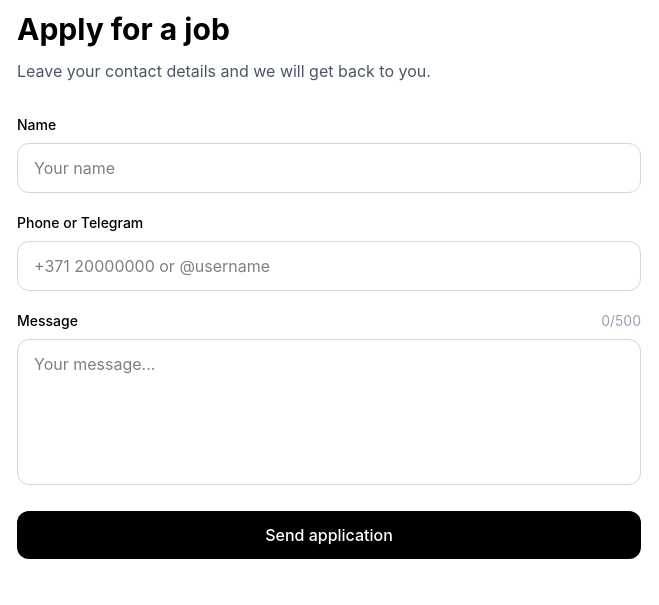
Test: ApplicationForm › shows validation error for a name shorter than 2 characters
Type "A" into the field labelled "Name" at coordinates (329, 168), box [17, 143, 641, 193]
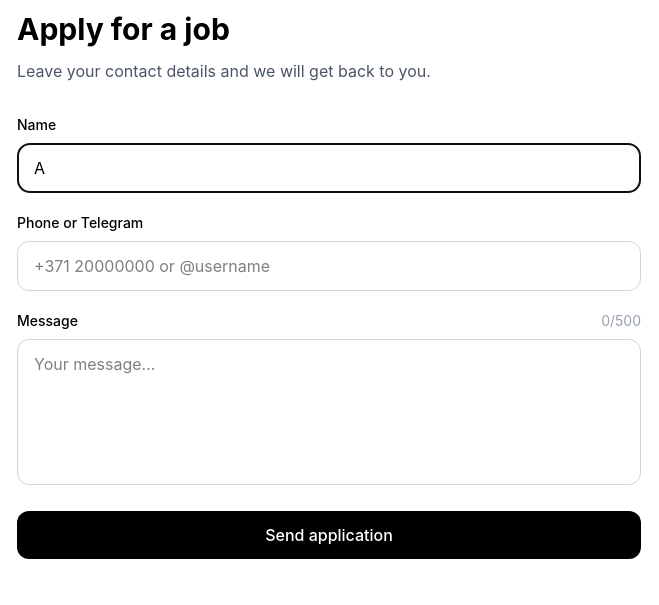
Type "+371 20000000" into the field labelled "Phone or Telegram" at coordinates (329, 266), box [17, 241, 641, 291]
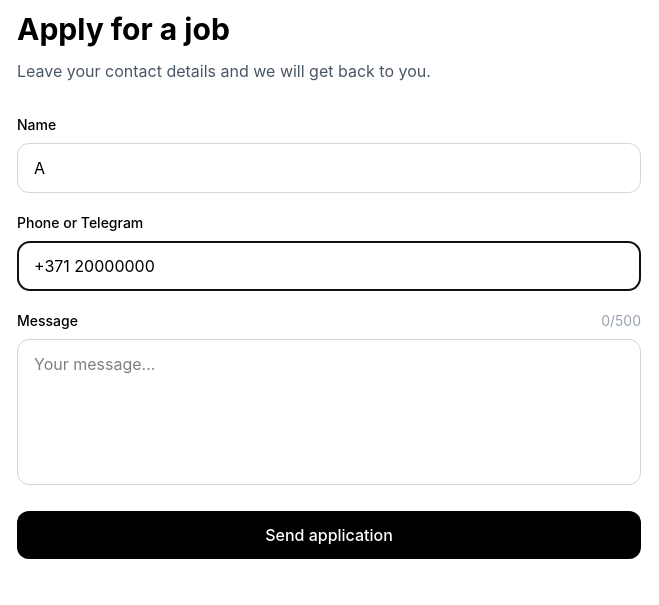
Click the button "Send application" at coordinates (329, 535), box [17, 511, 641, 559]
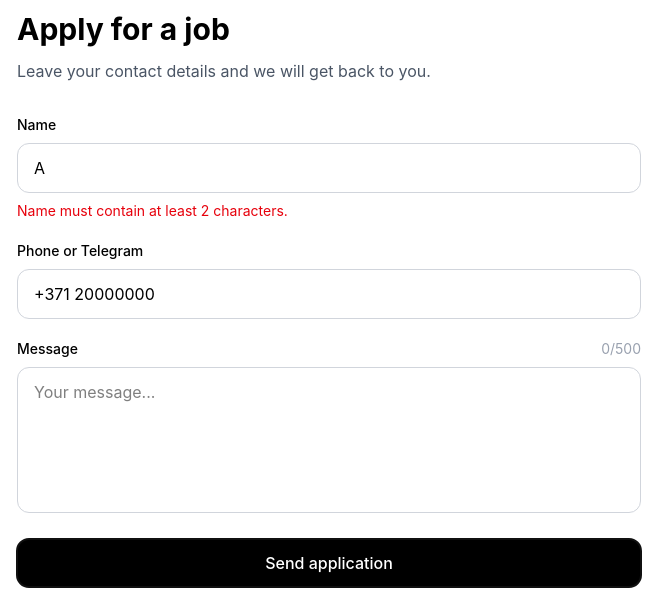
Check: the text "Name must contain at least 2 characters." is shown, box [17, 202, 288, 219]
